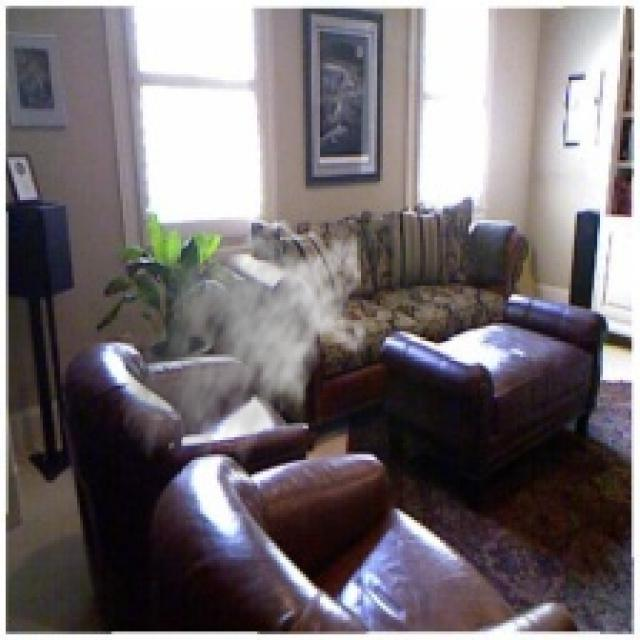Smoke: (120, 223, 369, 480)
